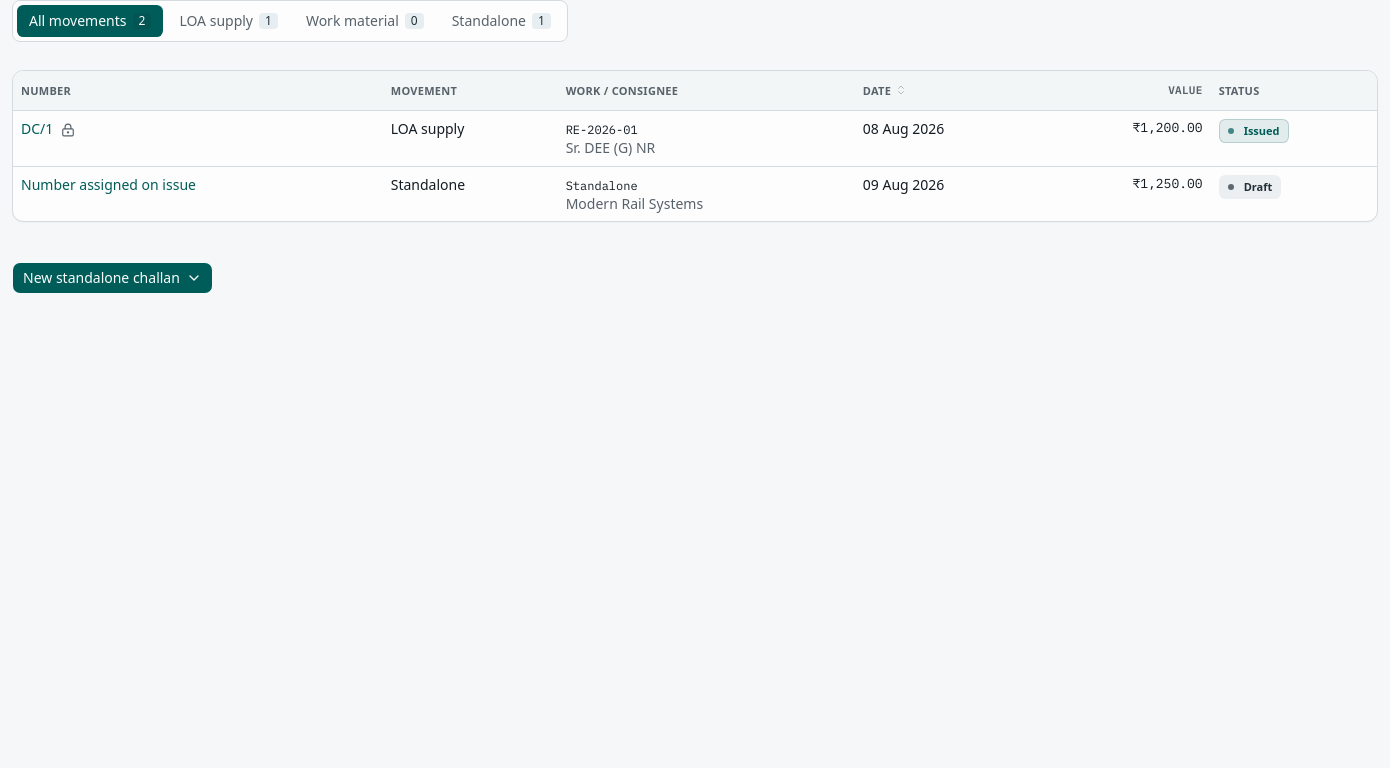
Test: the Delivery Challan register › refuses a half-stated line classification before the round trip
Check: the link "DC/1" is shown, box [21,119,53,138]
Click the button "New standalone challan" at (112, 278), box [12,262,213,294]
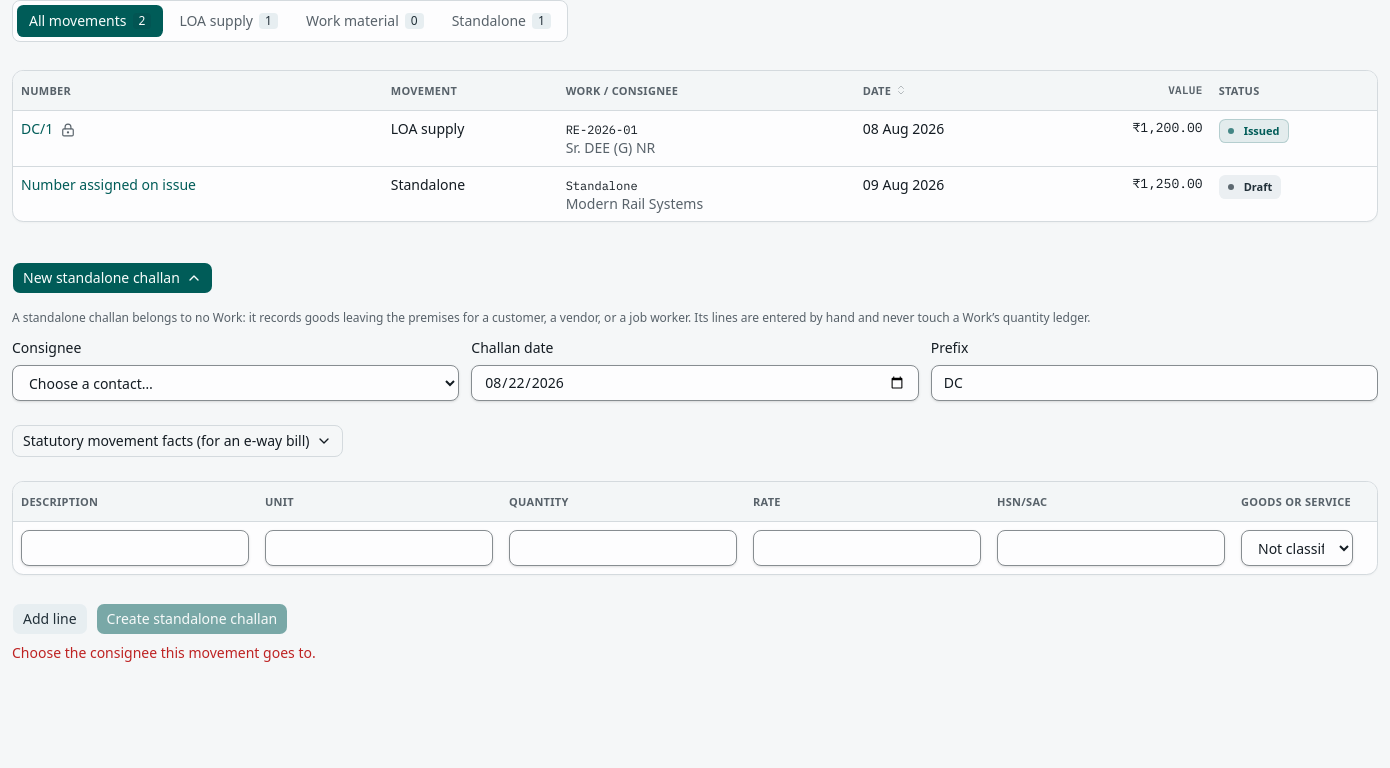
Select "Modern Rail Systems" in the dropdown labelled "Consignee" at (236, 383), box [12,365,459,401]
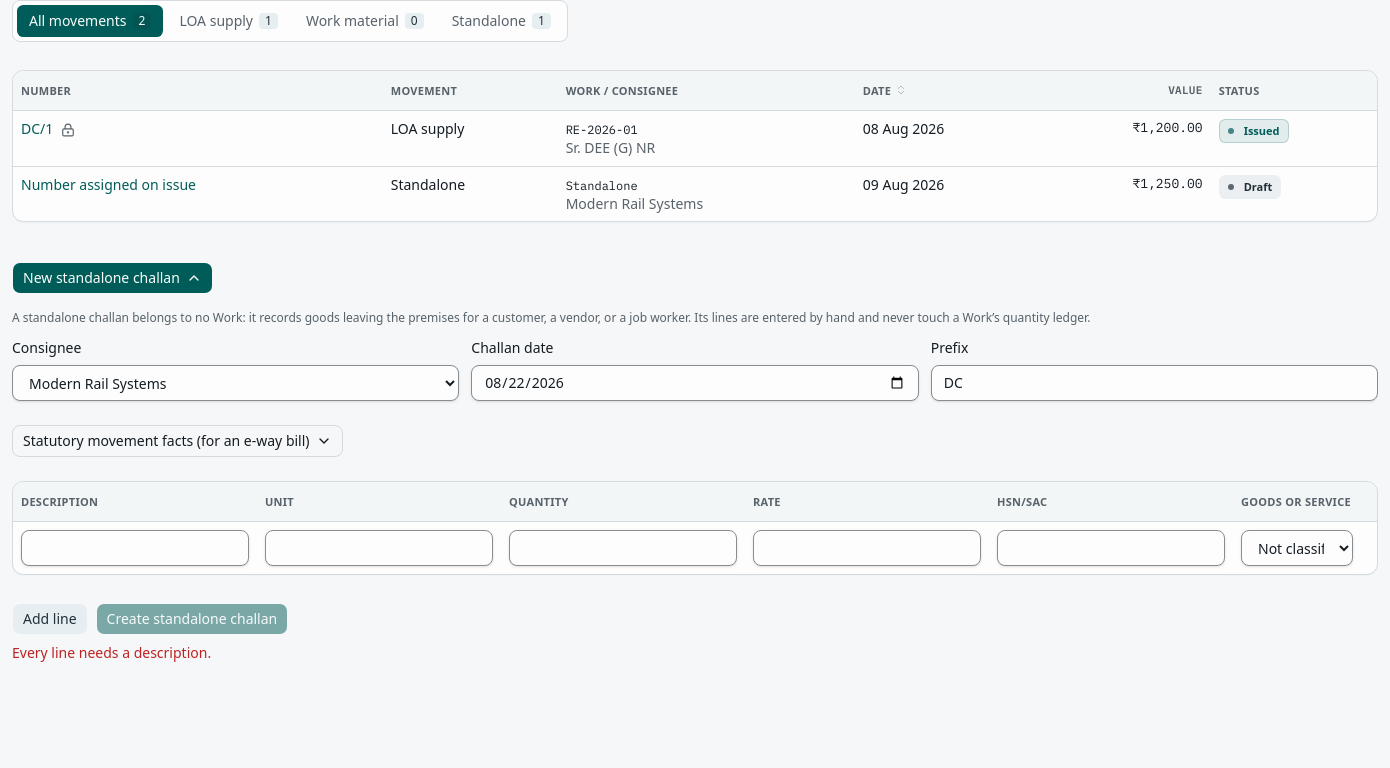
Type "Relay casing" into the 1st field named "Line 1 description" at (135, 548), box [21,530,249,566]
Type "Nos" into the 2nd field named "Line 1 unit" at (379, 548), box [265,530,493,566]
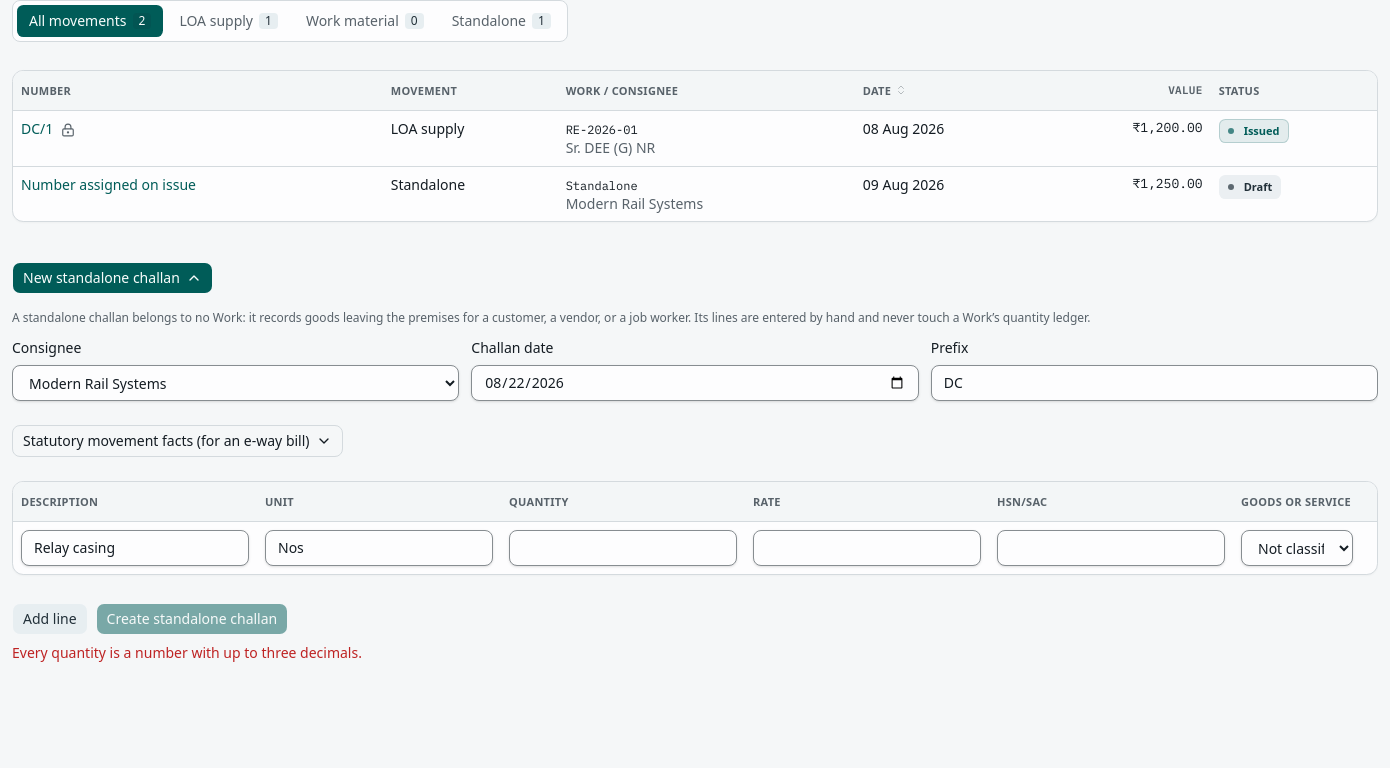
Type "10" into the 3rd field named "Line 1 quantity" at (623, 548), box [509,530,737,566]
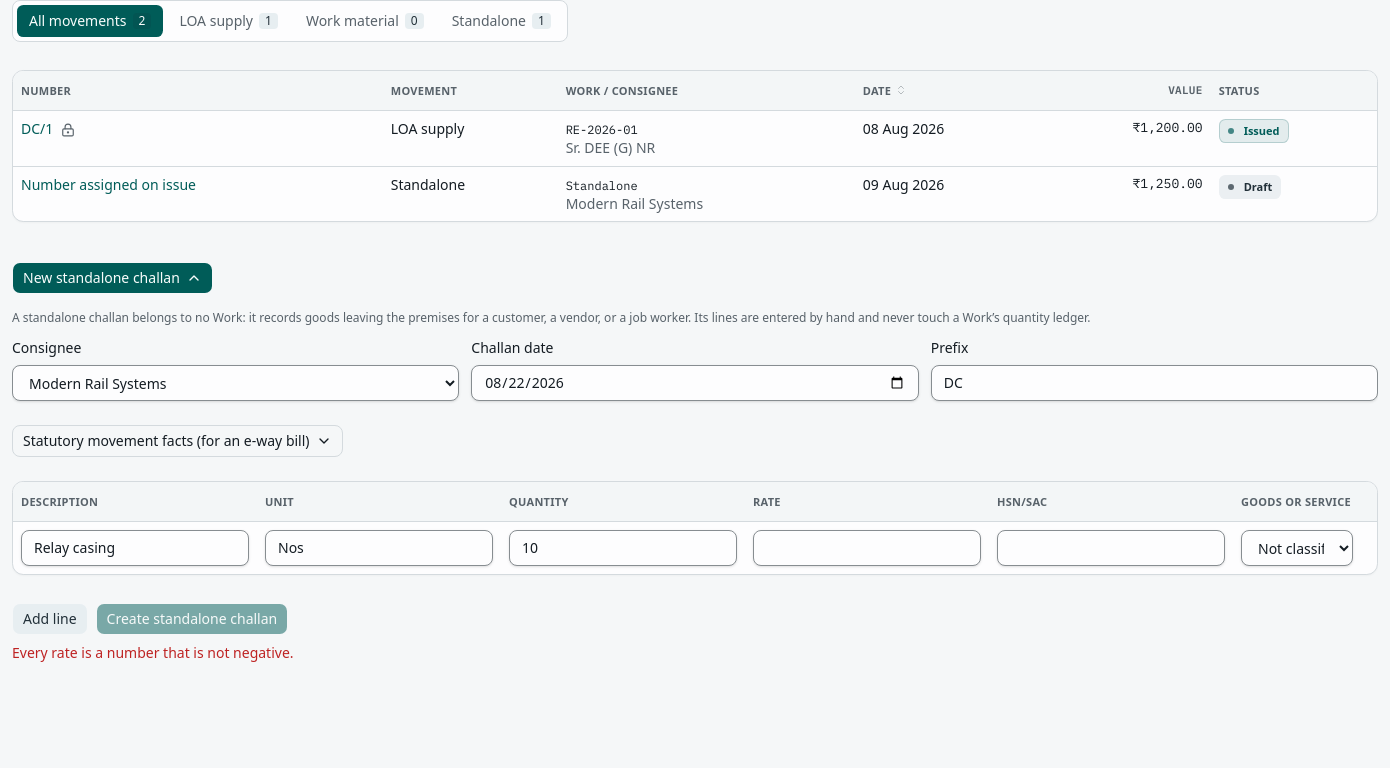
Type "125.00" into the 4th field named "Line 1 rate" at (867, 548), box [753,530,981,566]
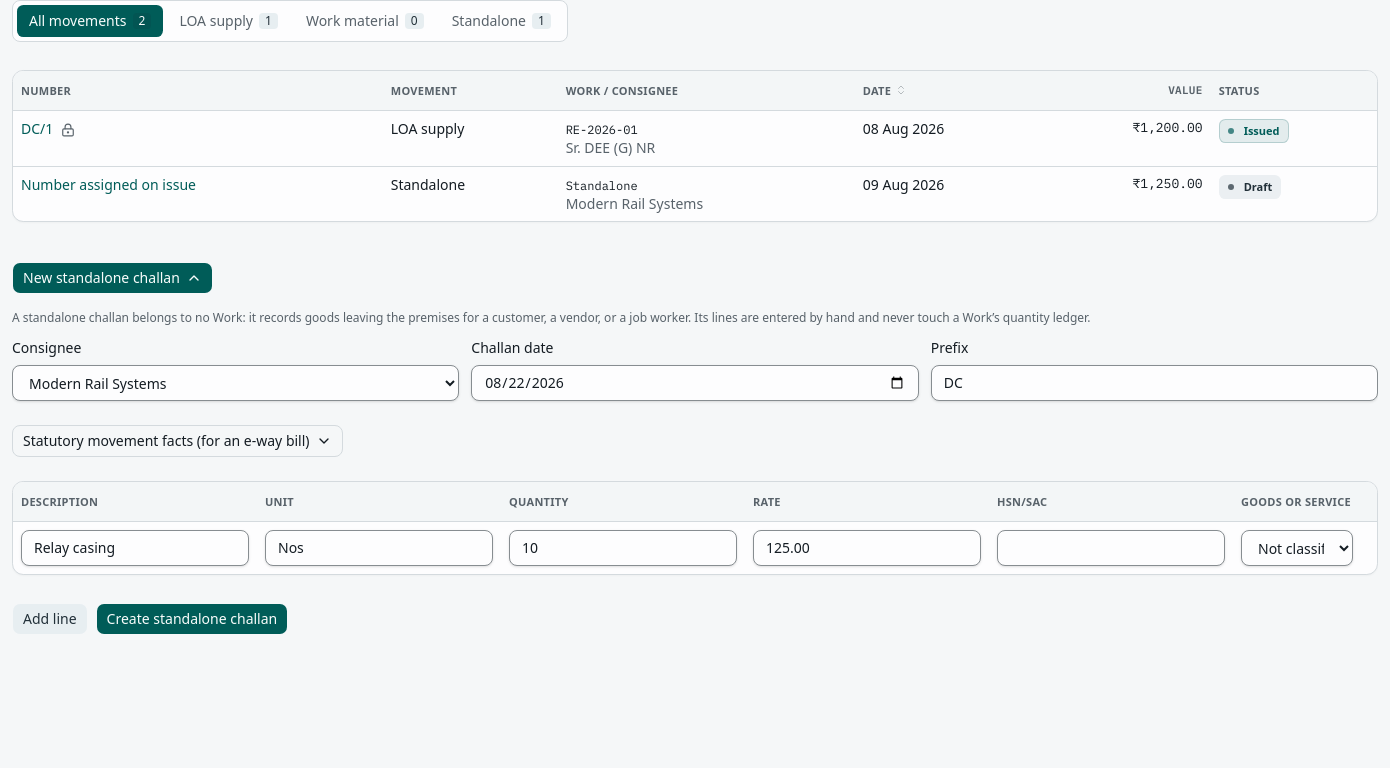
Type "85444999" into the 5th field named "Line 1 HSN or SAC code" at (1111, 548), box [997,530,1225,566]
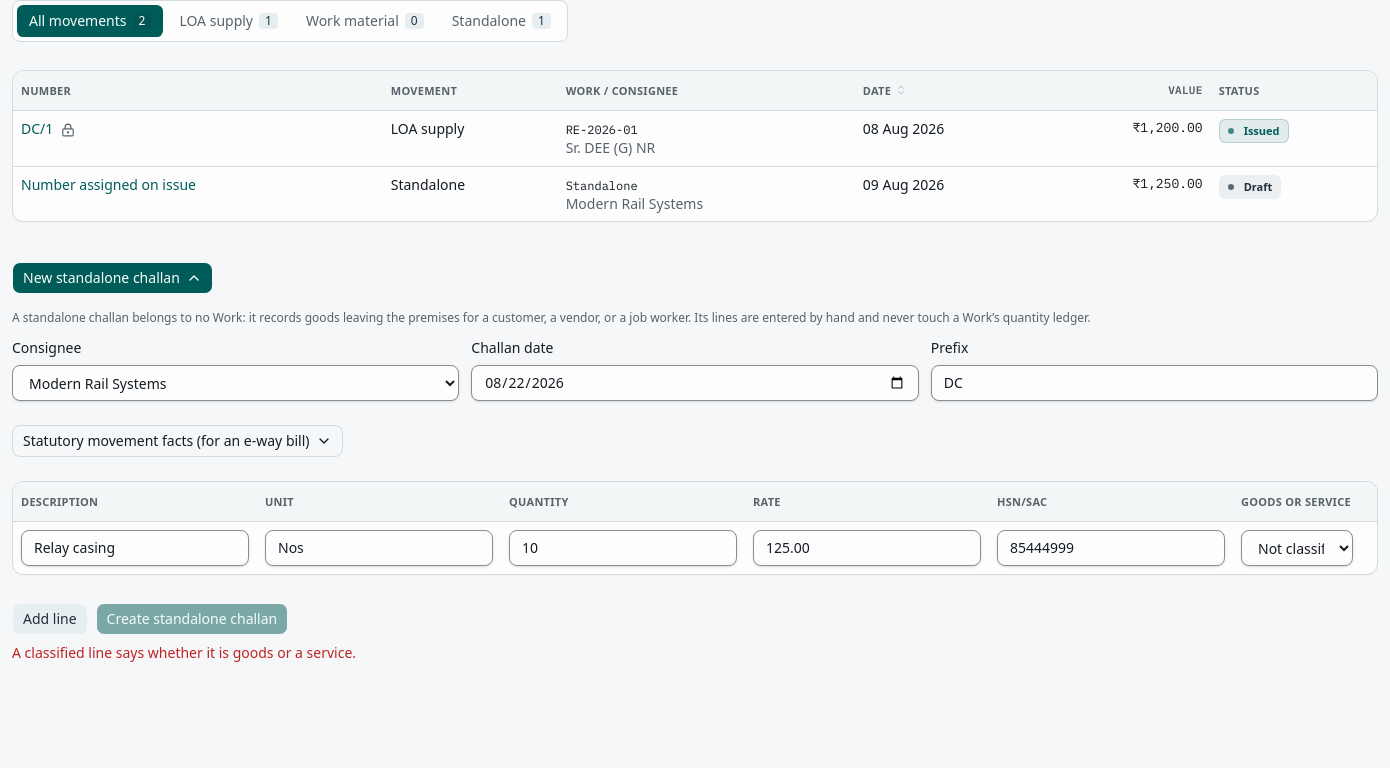
Check: the button "Create standalone challan" is disabled, box [96,603,288,635]
Check: the text "A classified line says whether it is goods or a service." is shown, box [12,643,356,662]
